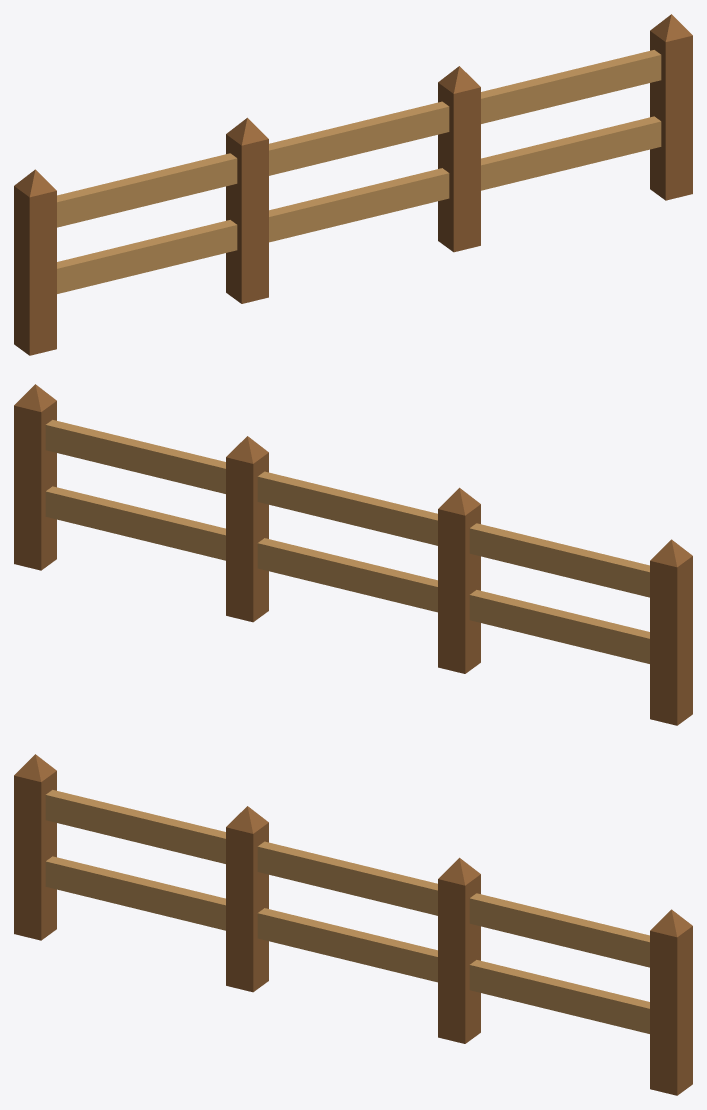
The model's file is fence.glb.
3 views of the same model, one above another, from view 1: azimuth 30°, elevation 25°; view 2: azimuth 150°, elevation 25°; view 3: azimuth 330°, elevation 25° (orthographic).
Parts seen in each view (by area): view 1: Fence section, Fence post; view 2: Fence section, Fence post; view 3: Fence section, Fence post.
Part boxes in pixels (x1,y1,x2,y2): Fence section: [57, 14, 692, 303]; Fence post: [14, 169, 56, 355]; Fence section: [14, 384, 649, 673]; Fence post: [650, 539, 692, 725]; Fence section: [45, 790, 692, 1095]; Fence post: [14, 754, 56, 940].
Bounding box in the file's own units: 4.38 × 1.12 × 0.18.
